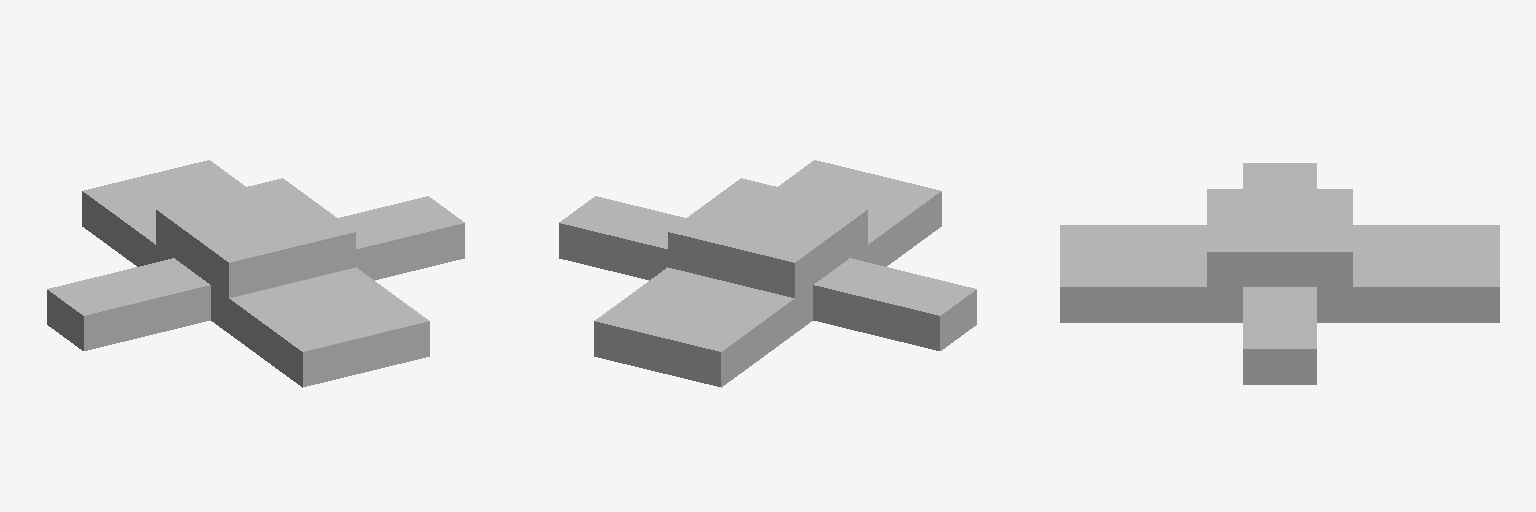
Rendered from plate-trap-spike-platform.obj.
3 views of the same model, side by side, from view 1: azimuth 30°, elevation 25°; view 2: azimuth 150°, elevation 25°; view 3: azimuth 270°, elevation 25° (orthographic).
Parts seen in each view (by area): view 1: Cube; view 2: Cube; view 3: Cube.
Boxes of the visible parts, x1,y1,x2,y2 form: Cube: [47, 160, 464, 387]; Cube: [559, 160, 976, 387]; Cube: [1060, 163, 1499, 384].
Bounding box in the file's own units: 1.12 × 0.2 × 1.12.